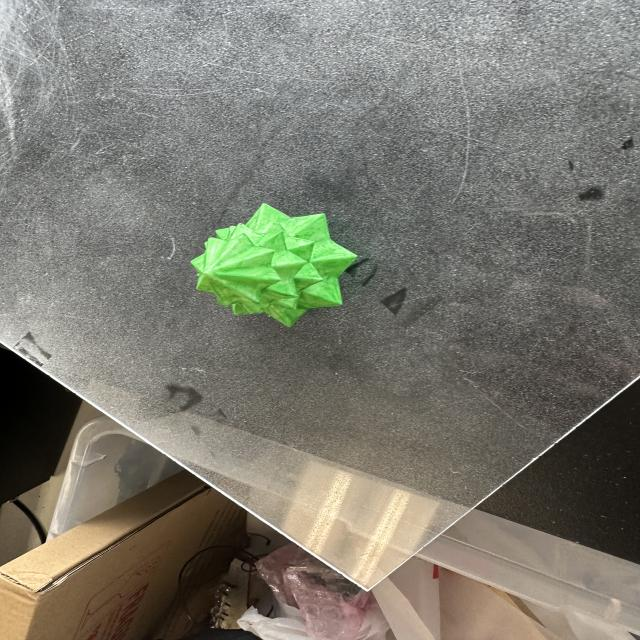tree: (188, 204, 359, 329)
